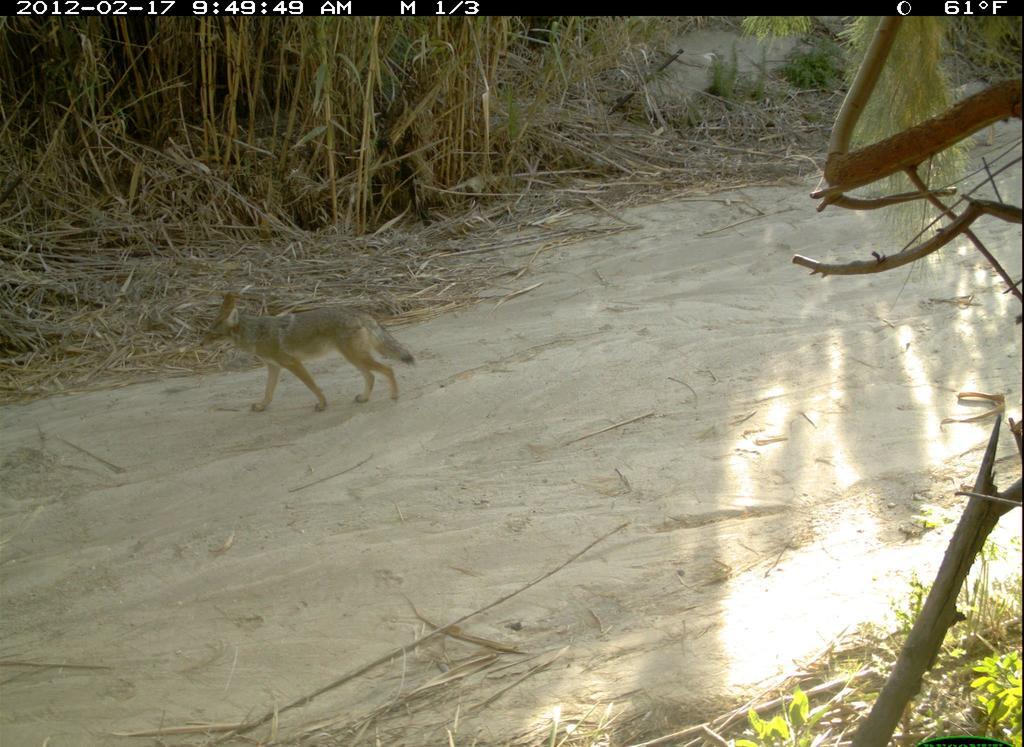coyote: (190, 296, 422, 415)
